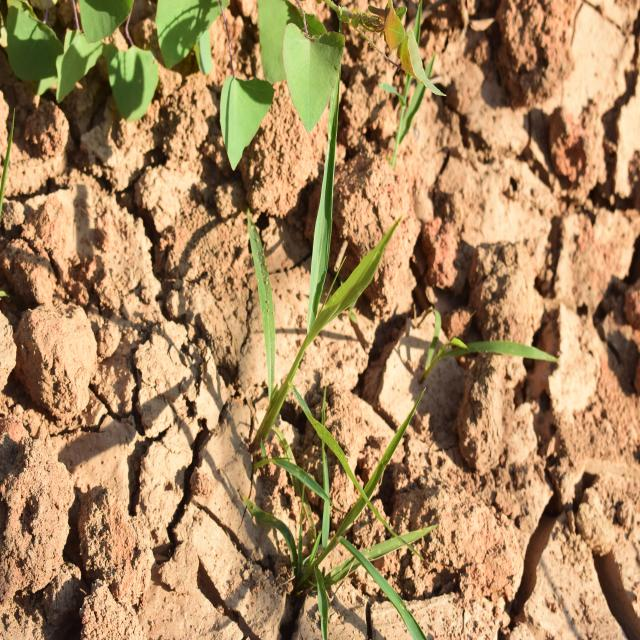green_foxtail: (242, 134, 412, 488), (299, 444, 432, 617)
